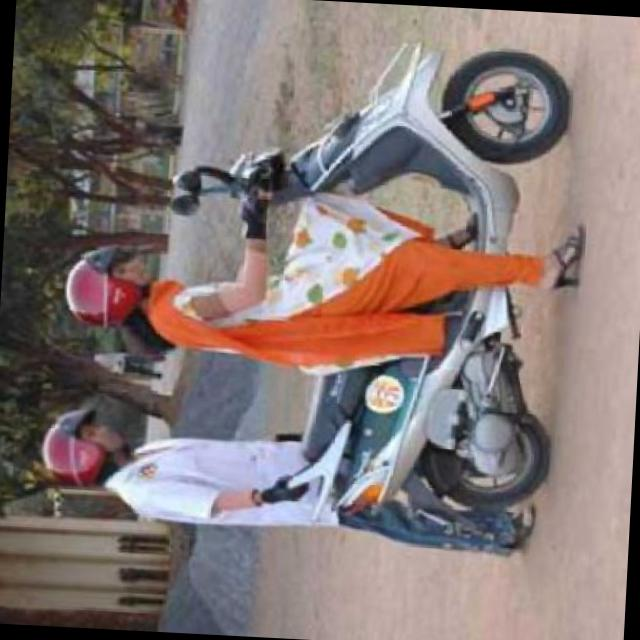With Helmet: (56, 234, 167, 337), (37, 395, 140, 498)
